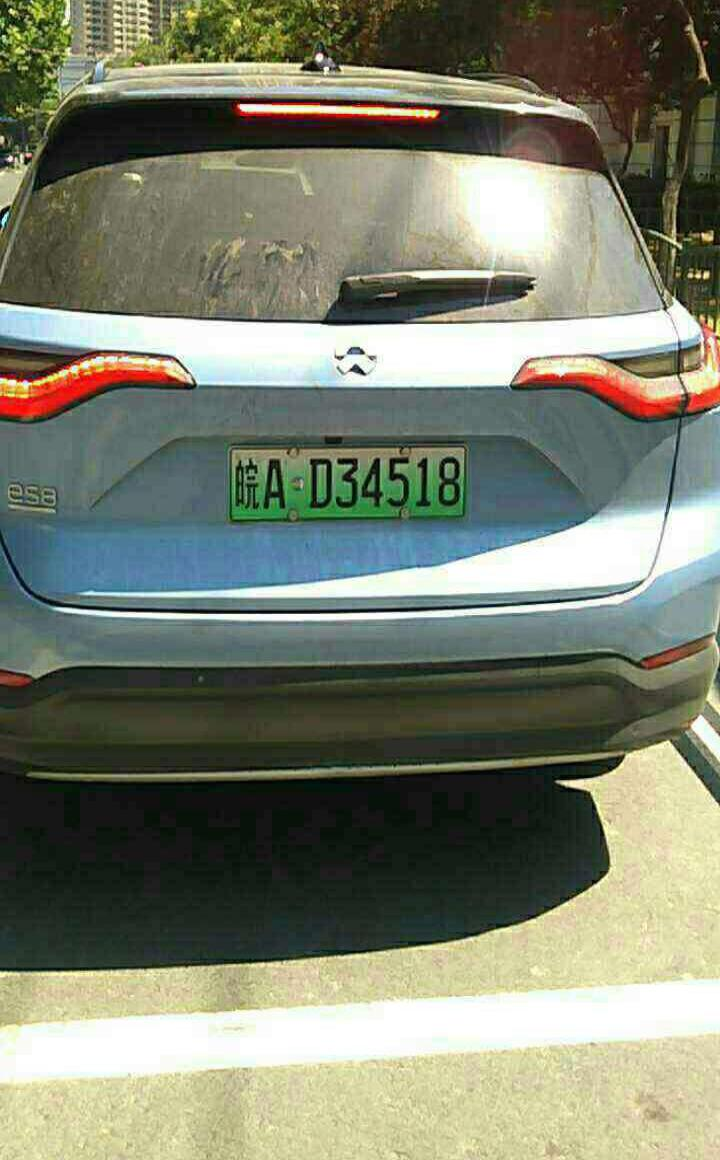car_id: (230, 445, 462, 517)
